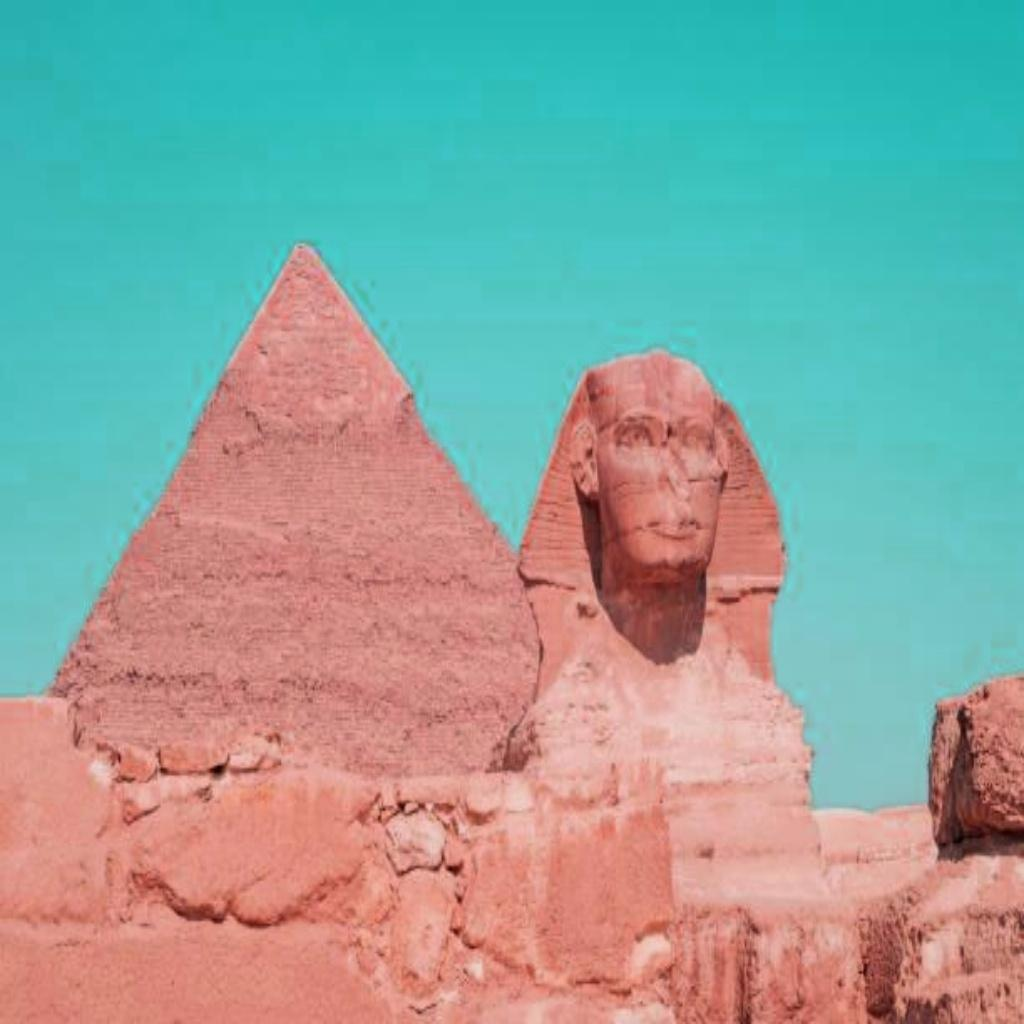Sphinx: (502, 344, 816, 816)
